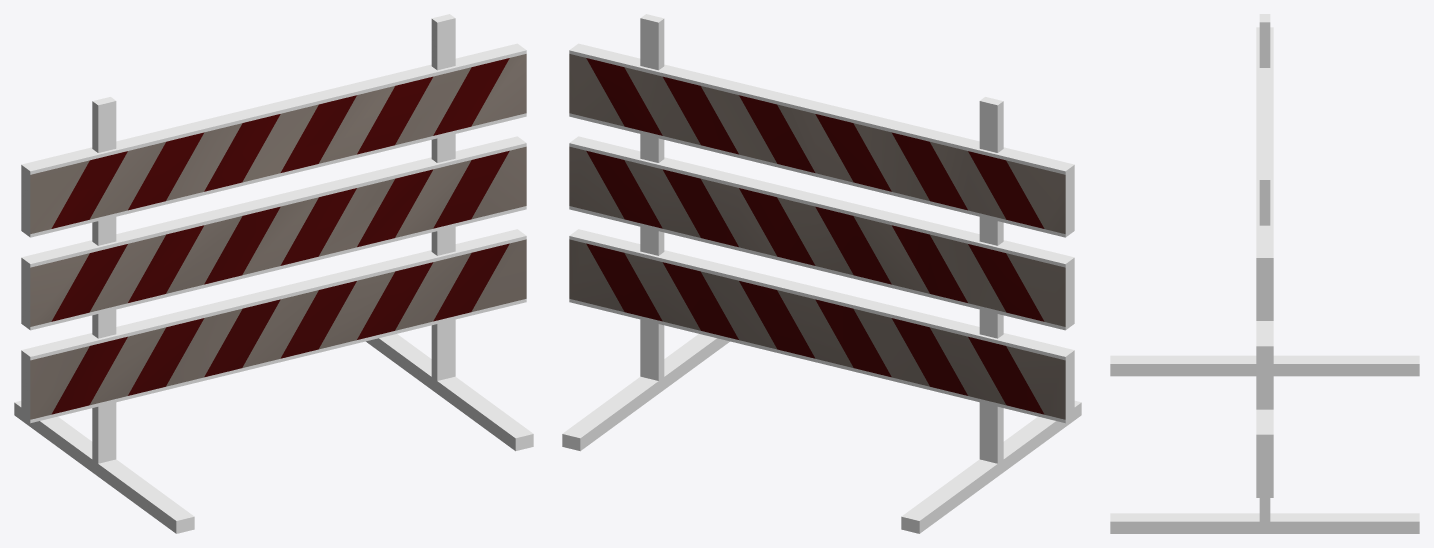
The model's file is TrafficBarrier_1.glb.
3 views of the same model, side by side, from view 1: azimuth 30°, elevation 25°; view 2: azimuth 150°, elevation 25°; view 3: azimuth 270°, elevation 25° (orthographic). The views are drawn at different scales.
Parts seen in each view (by area): view 1: TrafficBarrier_1; view 2: TrafficBarrier_1; view 3: TrafficBarrier_1.
Boxes of the visible parts, left/top/right/bottom form: TrafficBarrier_1: left=14, top=14, right=533, bottom=533; TrafficBarrier_1: left=562, top=14, right=1081, bottom=533; TrafficBarrier_1: left=1110, top=14, right=1419, bottom=533.
Size of the model in its own units: 1.56 by 1.11 by 0.8806.
